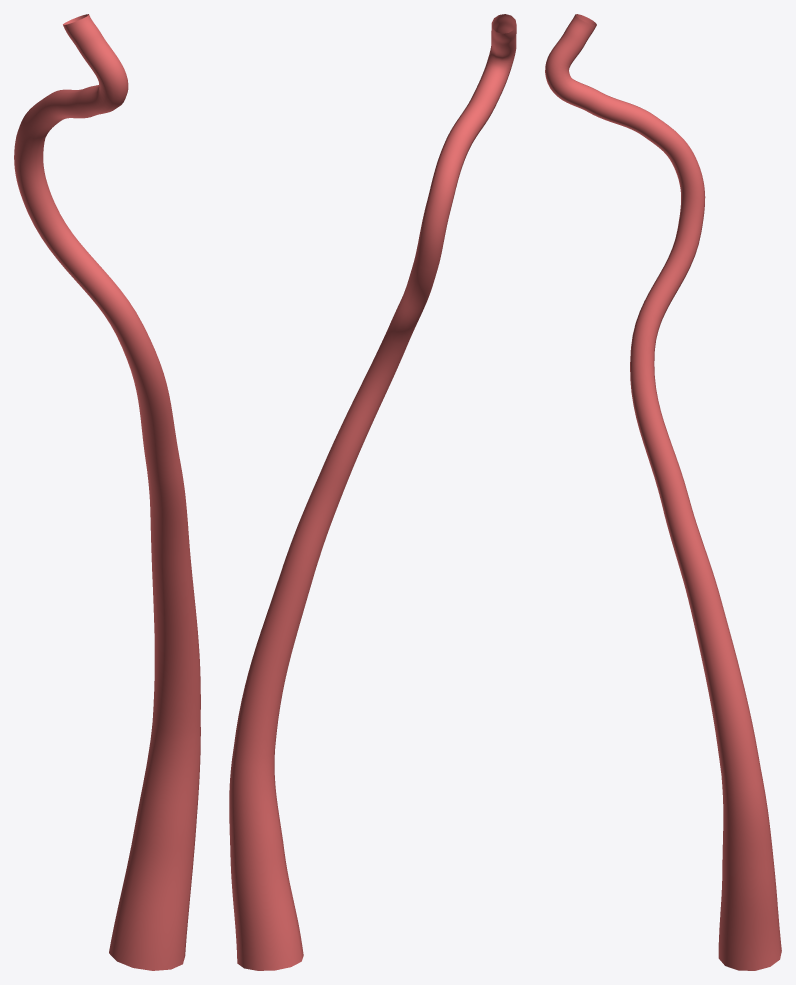
The model's file is Internal_carotid_artery.l_BezierCurve.251.glb.
The picture shows the model from 3 angles, left to right: view 1: azimuth 30°, elevation 25°; view 2: azimuth 150°, elevation 25°; view 3: azimuth 270°, elevation 25°; orthographic projection. The views are drawn at different scales.
Parts seen in each view (by area): view 1: Internal_carotid_artery.l_BezierCurve.251; view 2: Internal_carotid_artery.l_BezierCurve.251; view 3: Internal_carotid_artery.l_BezierCurve.251.
Boxes of the visible parts, left/top/right/bottom form: Internal_carotid_artery.l_BezierCurve.251: left=14, top=14, right=200, bottom=970; Internal_carotid_artery.l_BezierCurve.251: left=229, top=14, right=516, bottom=970; Internal_carotid_artery.l_BezierCurve.251: left=545, top=14, right=781, bottom=970.
Size of the model in its own units: 0.0273 by 0.1204 by 0.0295.
